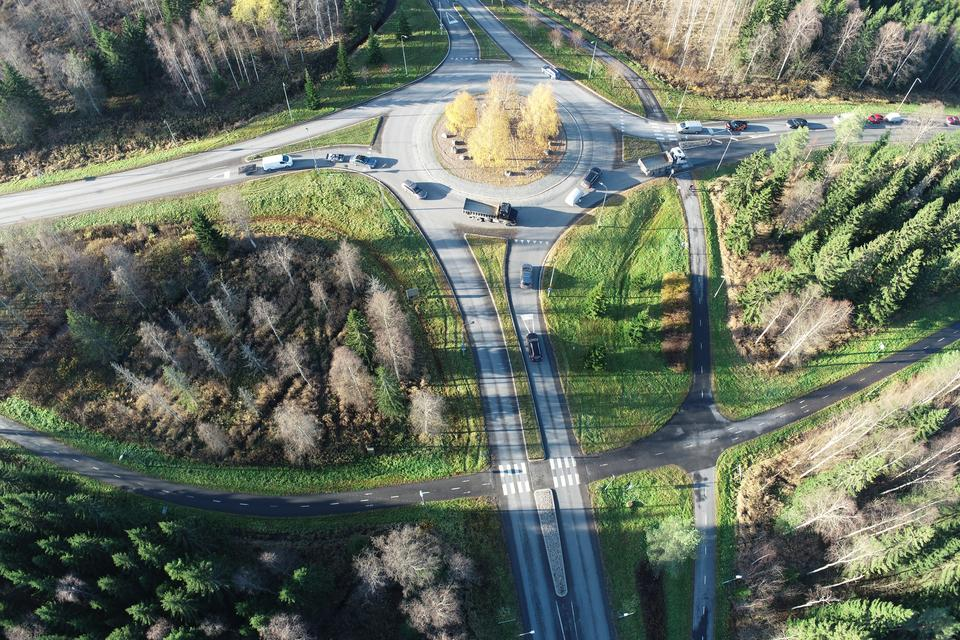intersection: (460, 432, 617, 537), (641, 90, 733, 201)
roundabout: (343, 41, 637, 297)
